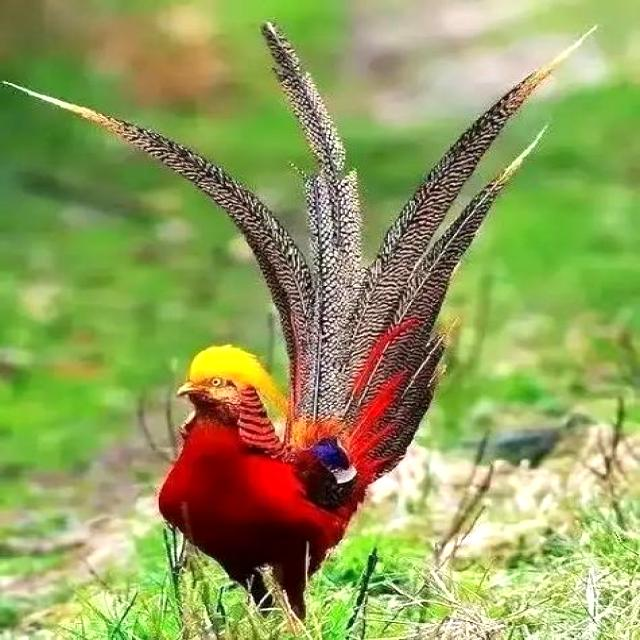Chrysolophus pictus feather: (1, 22, 598, 489)
